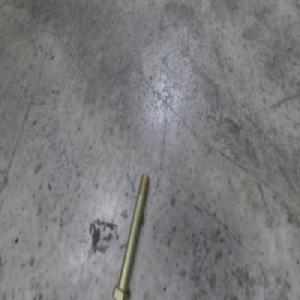Bolt: (112, 174, 148, 299)
